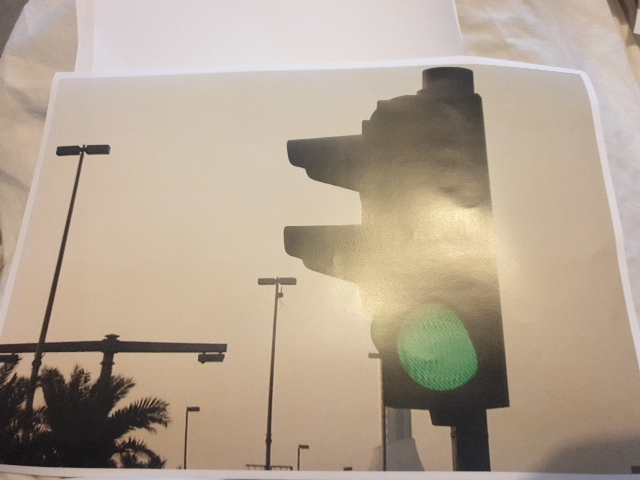green: (371, 99, 505, 402)
